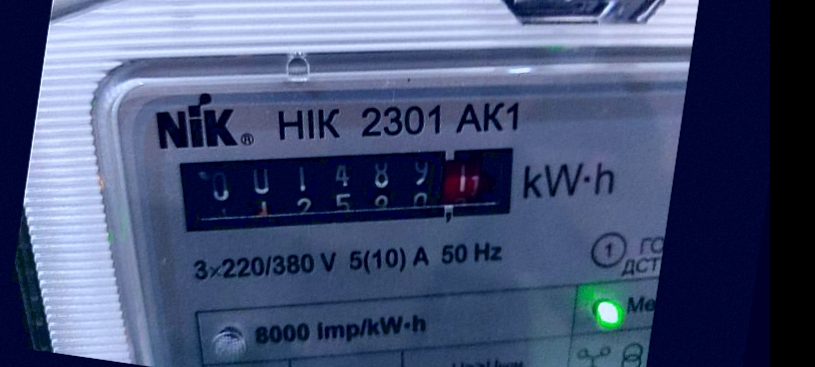0: (245, 158, 276, 198), (206, 167, 234, 205)
1: (450, 156, 475, 196), (290, 161, 314, 194)
4: (329, 156, 355, 190)
8: (369, 154, 395, 193)
9: (409, 154, 433, 188)
screen: (157, 90, 550, 292)
